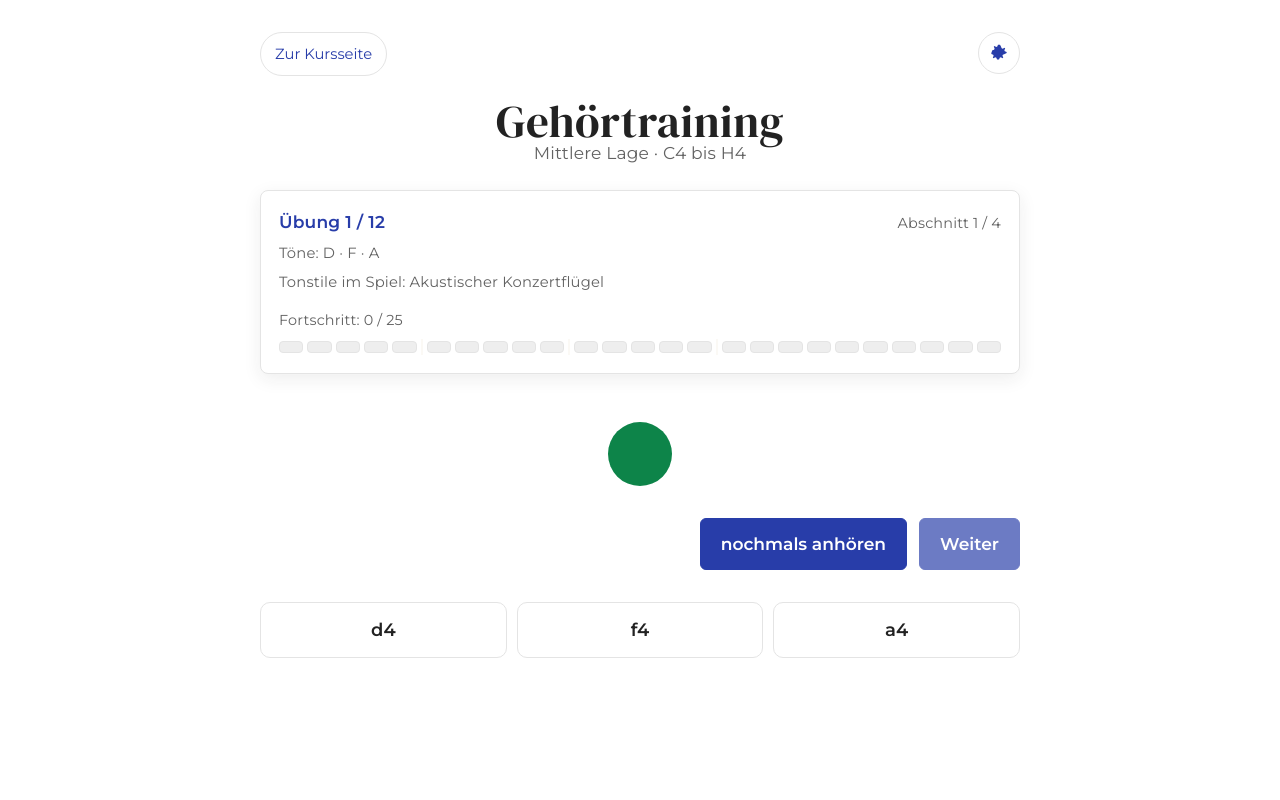
Test: EarTrainer › rendert die Trial- und Replay-Buttons und zeigt Audio-Einstellungen im Menü
The width and height of the screenshot is (1280, 800).
Step 1. Click the button named "Einstellungen" → (999, 53), box [978,32,1020,74]
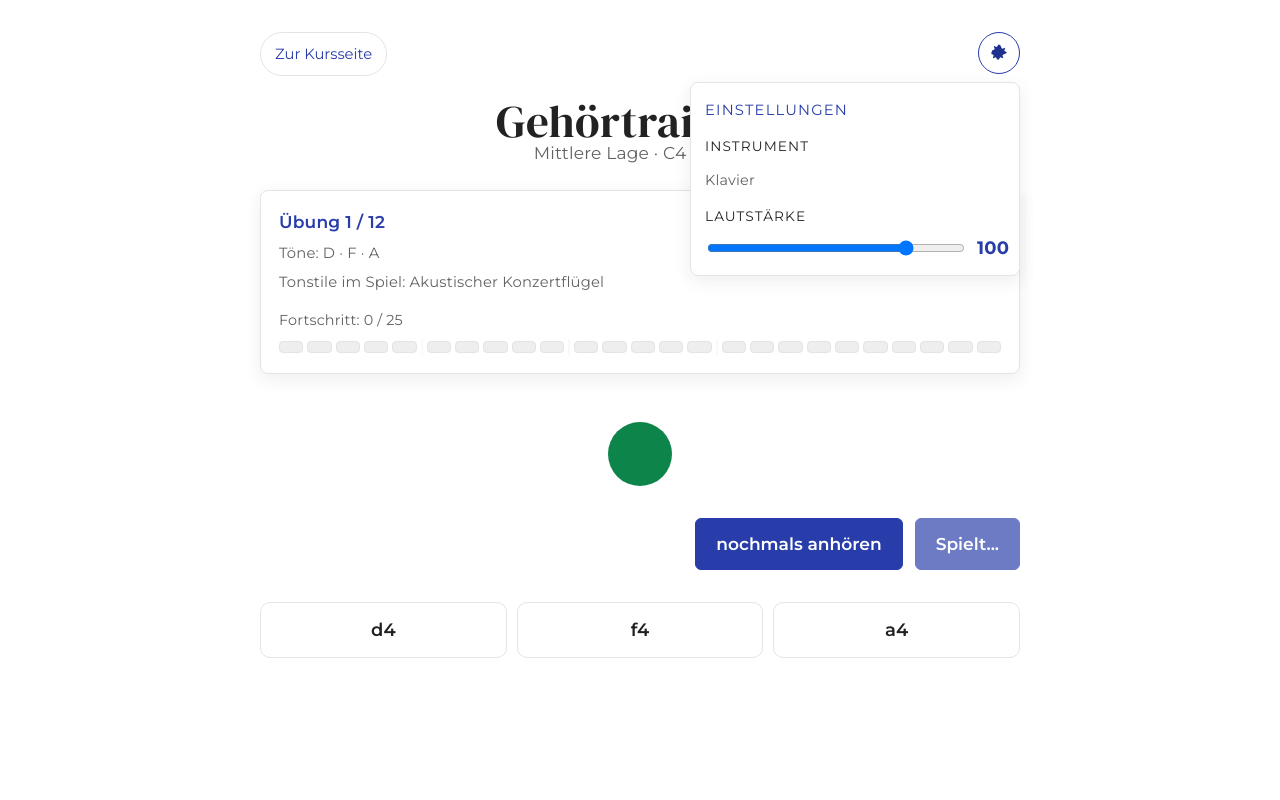
Check: the button "nochmals anhören" is shown, box [695,518,903,570]
Check: the dialog "Einstellungen" is shown, box [690,82,1020,276]
Check: the text "Klavier" is shown, box [705,171,755,189]
